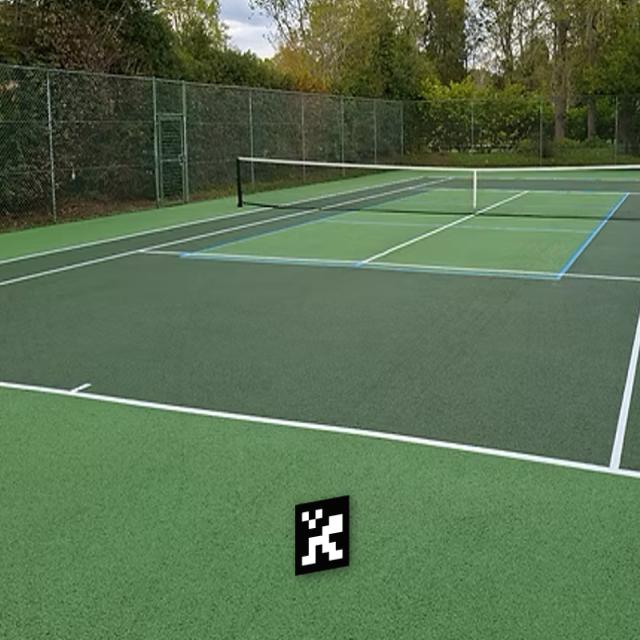marker: (288, 486, 360, 584)
